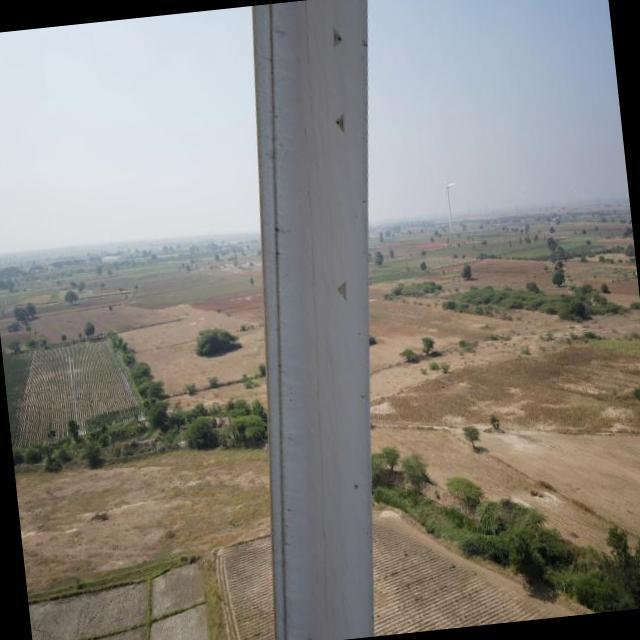Dirt: (294, 2, 376, 639)
Pin Hole: (339, 278, 352, 298), (334, 32, 344, 46), (350, 478, 365, 487), (335, 118, 345, 130)
